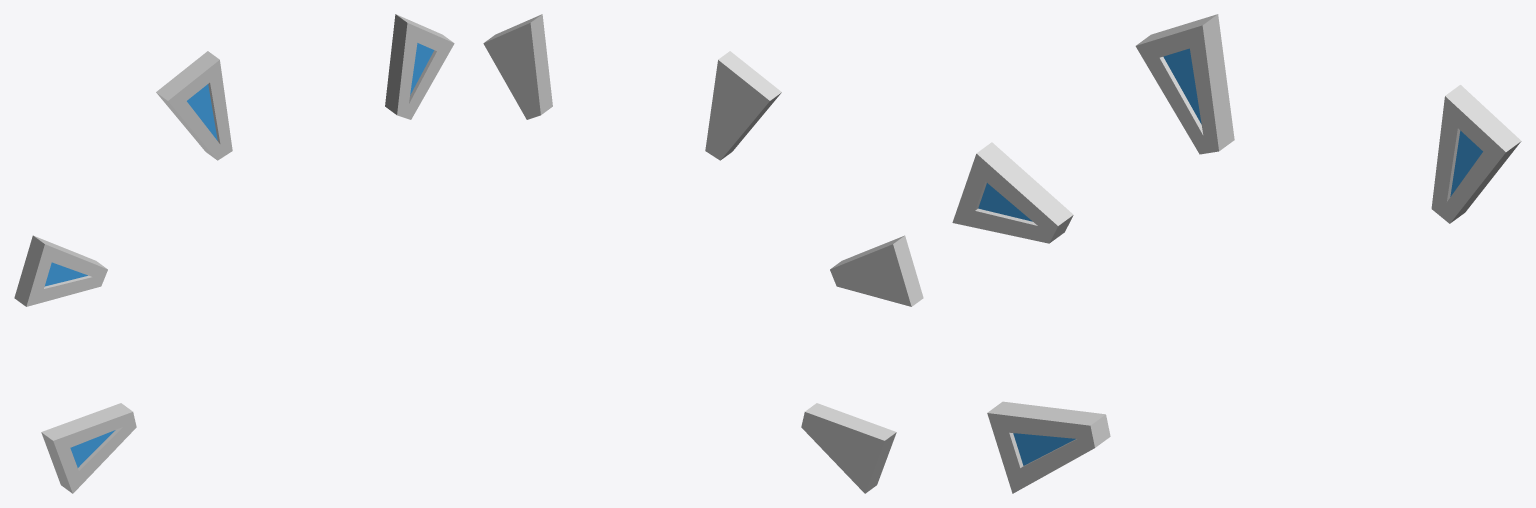
File: Exclamation.FBX
3 renders of one model, left to right at view 1: azimuth 30°, elevation 25°; view 2: azimuth 150°, elevation 25°; view 3: azimuth 330°, elevation 25°, orthographic. The views are drawn at different scales.
Parts seen in each view (by area): view 1: Exclamation03, Exclamation01, Exclamation04, Exclamation02; view 2: Exclamation03, Exclamation01, Exclamation04, Exclamation02; view 3: Exclamation03, Exclamation04, Exclamation02, Exclamation01.
Boxes of the visible parts, x1,y1,x2,y2 form: Exclamation03: [156, 51, 232, 160]; Exclamation01: [41, 403, 136, 493]; Exclamation04: [385, 14, 454, 119]; Exclamation02: [14, 235, 107, 306]; Exclamation03: [705, 51, 781, 160]; Exclamation01: [801, 403, 896, 493]; Exclamation04: [483, 14, 552, 119]; Exclamation02: [830, 235, 923, 306]; Exclamation03: [1135, 14, 1234, 154]; Exclamation04: [1431, 85, 1521, 223]; Exclamation02: [952, 142, 1073, 243]; Exclamation01: [987, 401, 1110, 493].
Bounding box in the file's own units: 97.03 × 86.23 × 4.73.
